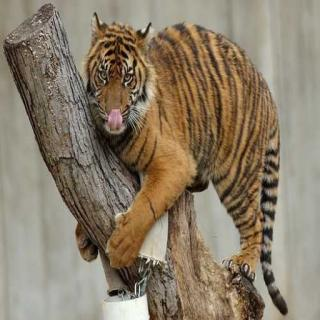Tiger: (77, 13, 320, 287)
